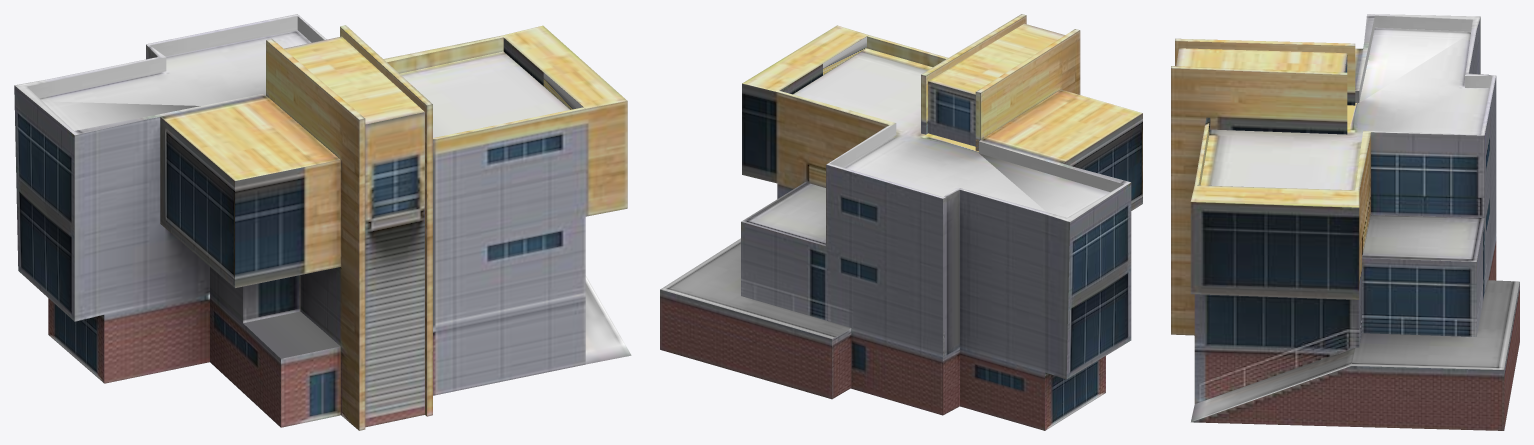
The picture shows the model from 3 angles, left to right: view 1: azimuth 30°, elevation 25°; view 2: azimuth 150°, elevation 25°; view 3: azimuth 270°, elevation 25°; orthographic projection. The views are drawn at different scales.
Visible parts, largest first — view 1: MainBuilding; view 2: MainBuilding; view 3: MainBuilding.
Boxes of the visible parts, bbox=[...] form: MainBuilding: bbox=[14, 14, 631, 430]; MainBuilding: bbox=[660, 14, 1142, 430]; MainBuilding: bbox=[1171, 14, 1519, 430].
Bounding box in the file's own units: 1.88 × 1.17 × 1.39.
Materials: 1 (1 with a texture image).
